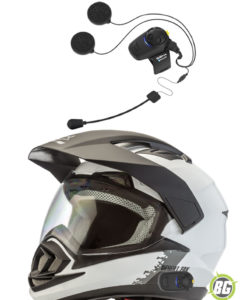with_helmet: (24, 129, 239, 300)
